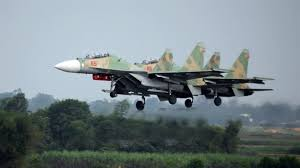maybay_muctieu: (58, 43, 256, 102)
